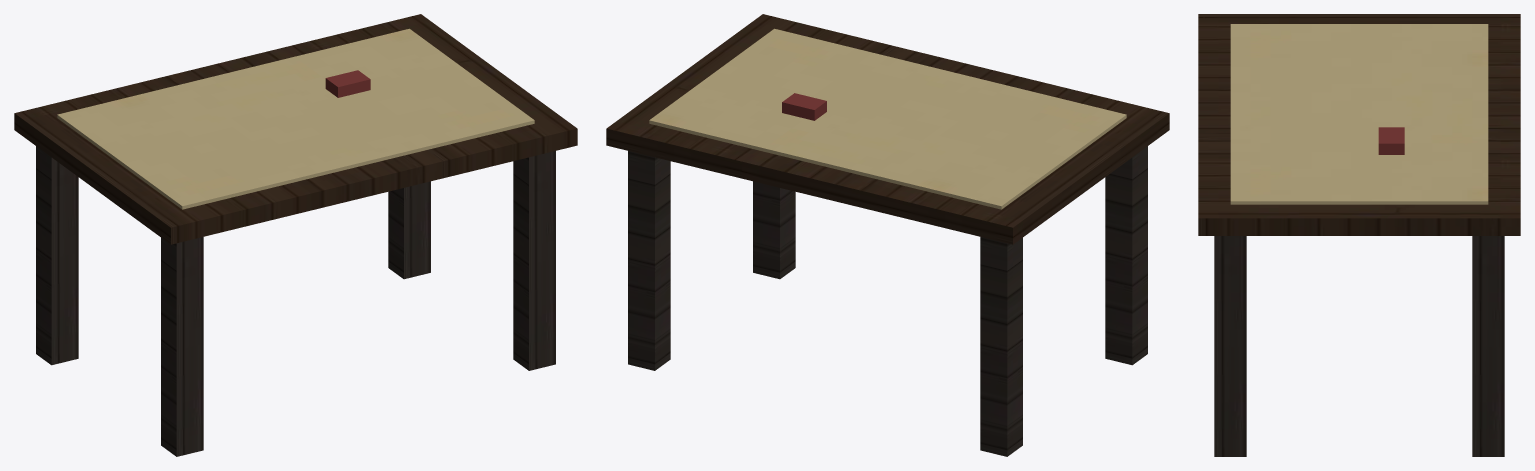
The model's file is map_table_01.glb.
3 views of the same model, side by side, from view 1: azimuth 30°, elevation 25°; view 2: azimuth 150°, elevation 25°; view 3: azimuth 270°, elevation 25° (orthographic). The views are drawn at different scales.
Parts seen in each view (by area): view 1: map_table_01; view 2: map_table_01; view 3: map_table_01.
Boxes of the visible parts, bbox=[...] form: map_table_01: bbox=[14, 14, 577, 456]; map_table_01: bbox=[606, 14, 1169, 456]; map_table_01: bbox=[1198, 14, 1520, 456].
Size of the model in its own units: 1.5 by 0.89 by 1.
4 materials, 4 textured.
